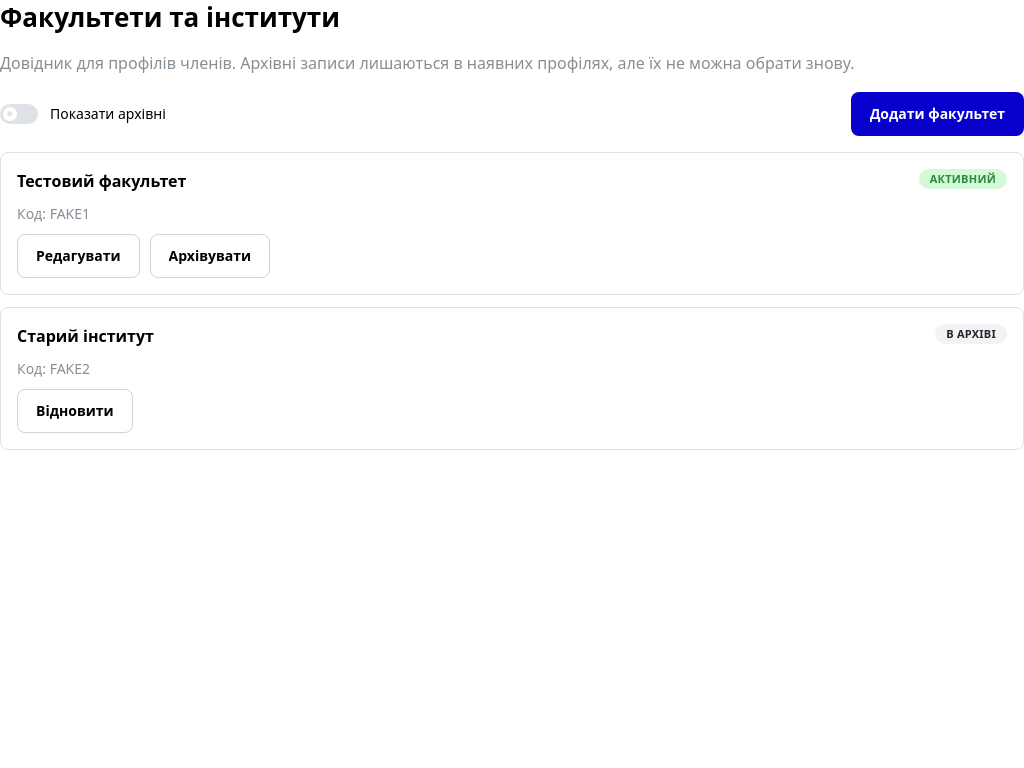
create form › attaches a duplicate name to the matching field and a duplicate code to the code
The image size is (1024, 768).
Click the button "Додати факультет".
click(937, 114)  # box [851,92,1023,136]
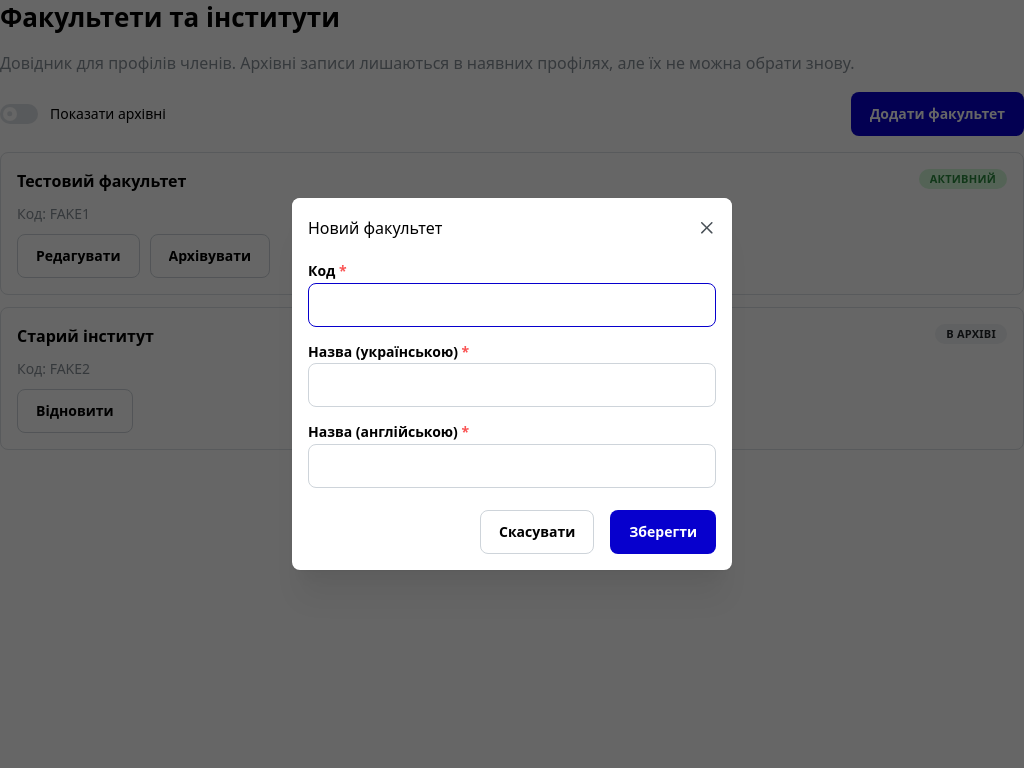
Type "NEW1" into the field labelled "Код *".
click(512, 305); type("NEW1")  # box [308,283,716,327]
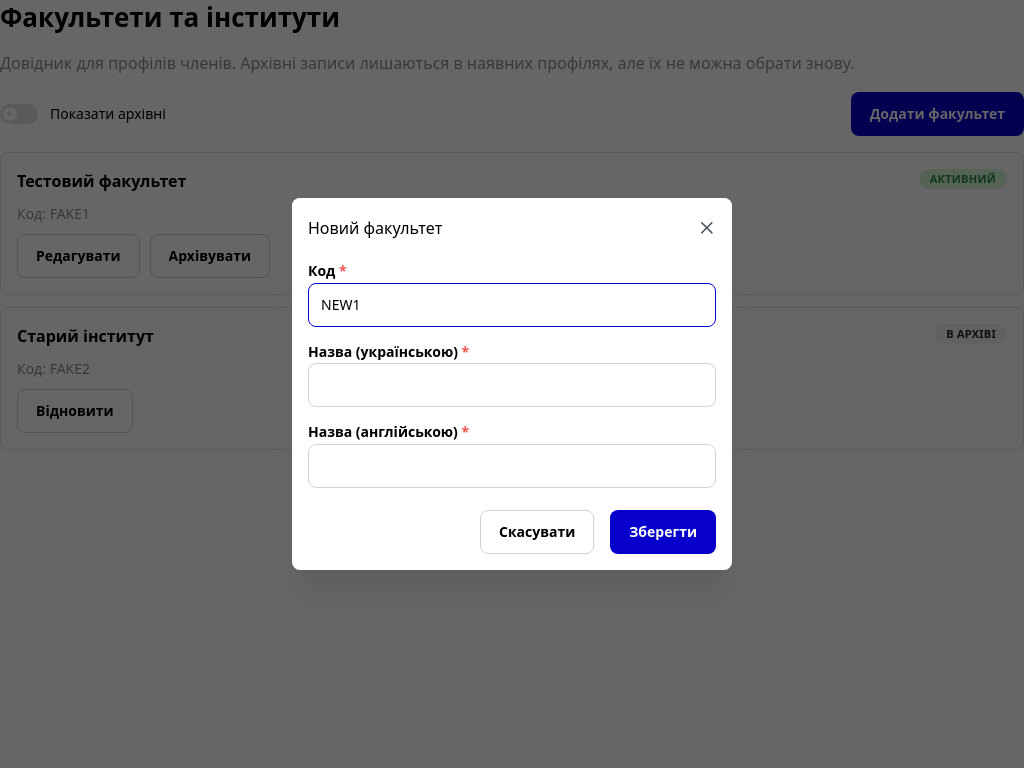
Type "Тестовий факультет" into the field labelled "Назва (українською) *".
click(512, 385); type("Тестовий факультет")  # box [308,363,716,407]
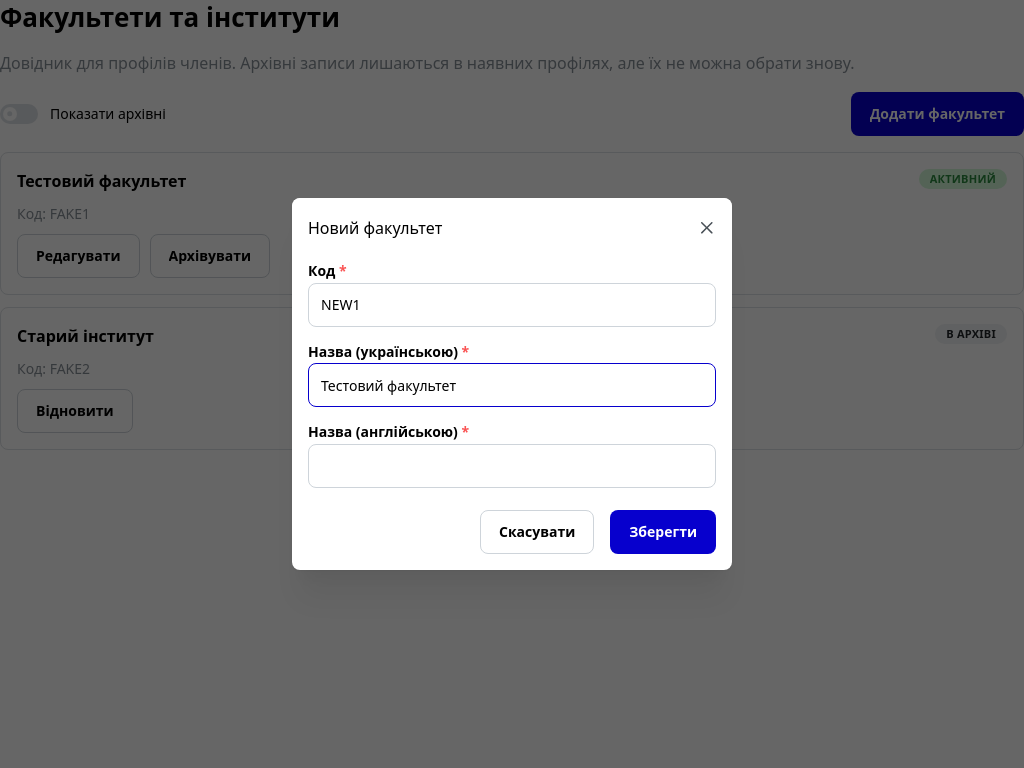
Type "Brand New" into the field labelled "Назва (англійською) *".
click(512, 466); type("Brand New")  # box [308,444,716,488]
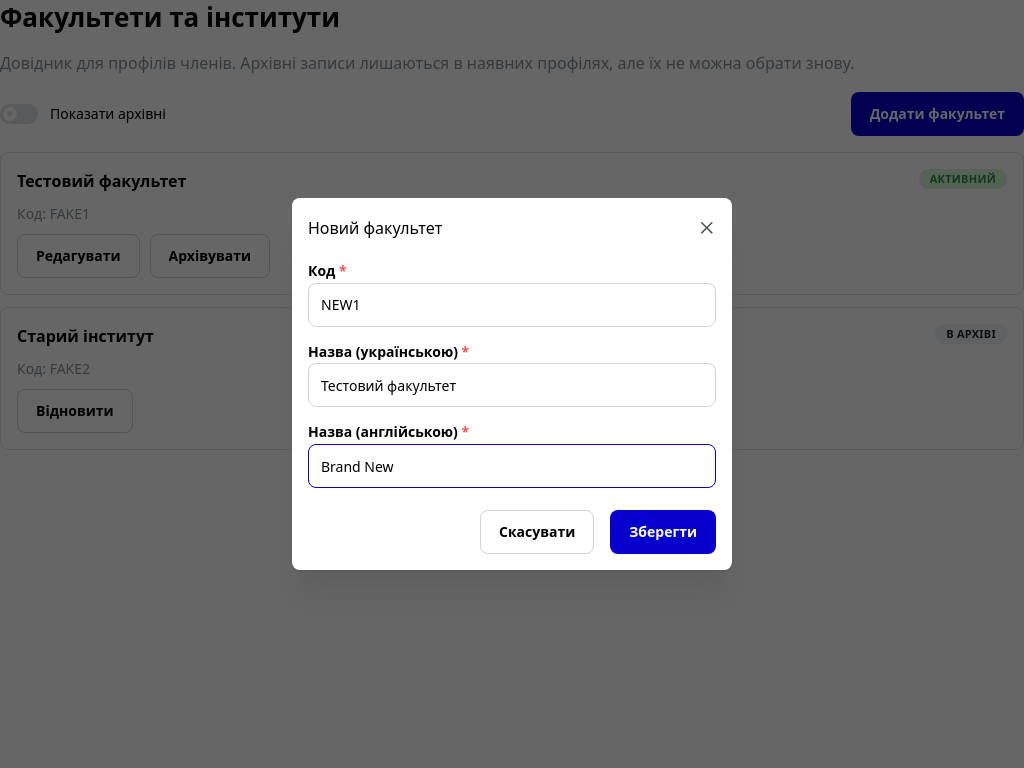
Click the button "Зберегти".
click(663, 532)  # box [610,510,716,554]
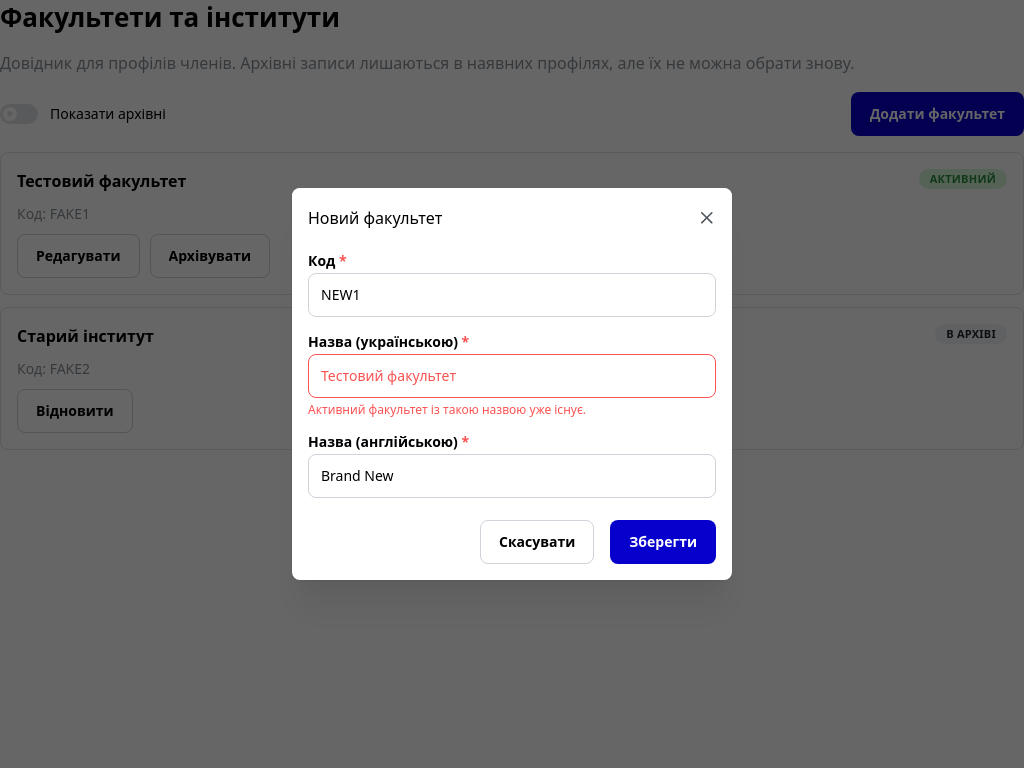
Now the text "Активний факультет із такою назвою уже існує." is shown once, box [308,401,586,418]
Click the button "Зберегти".
click(663, 542)  # box [610,520,716,564]
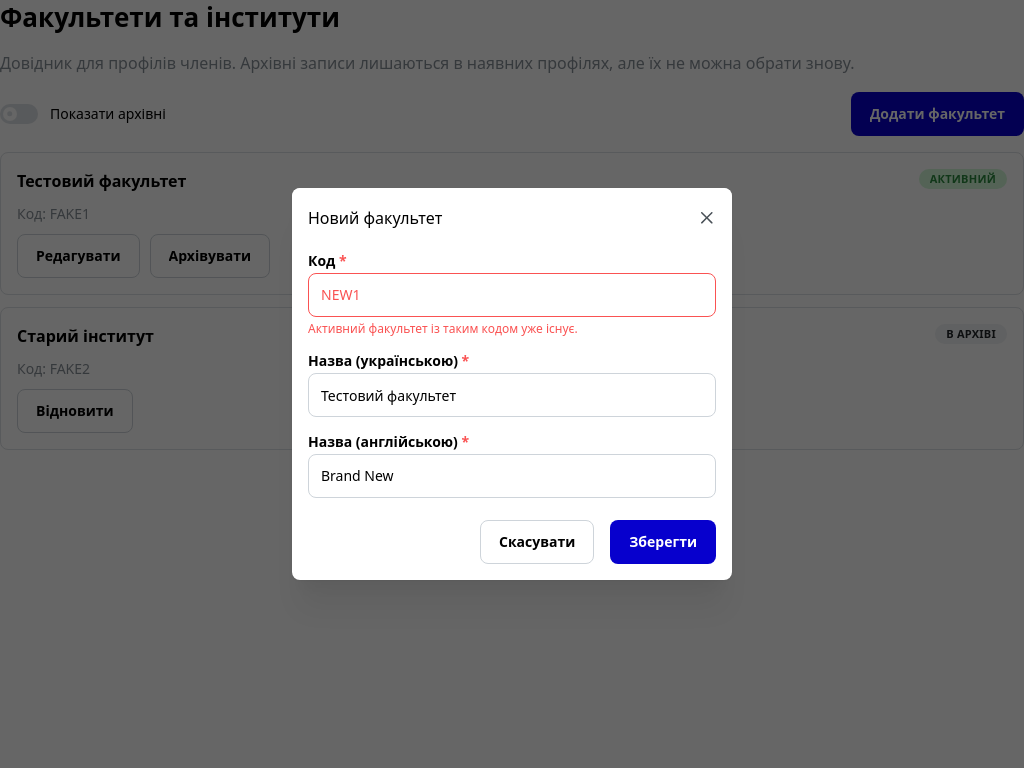
Now the text "Активний факультет із таким кодом уже існує." is shown, box [308,320,578,337]
